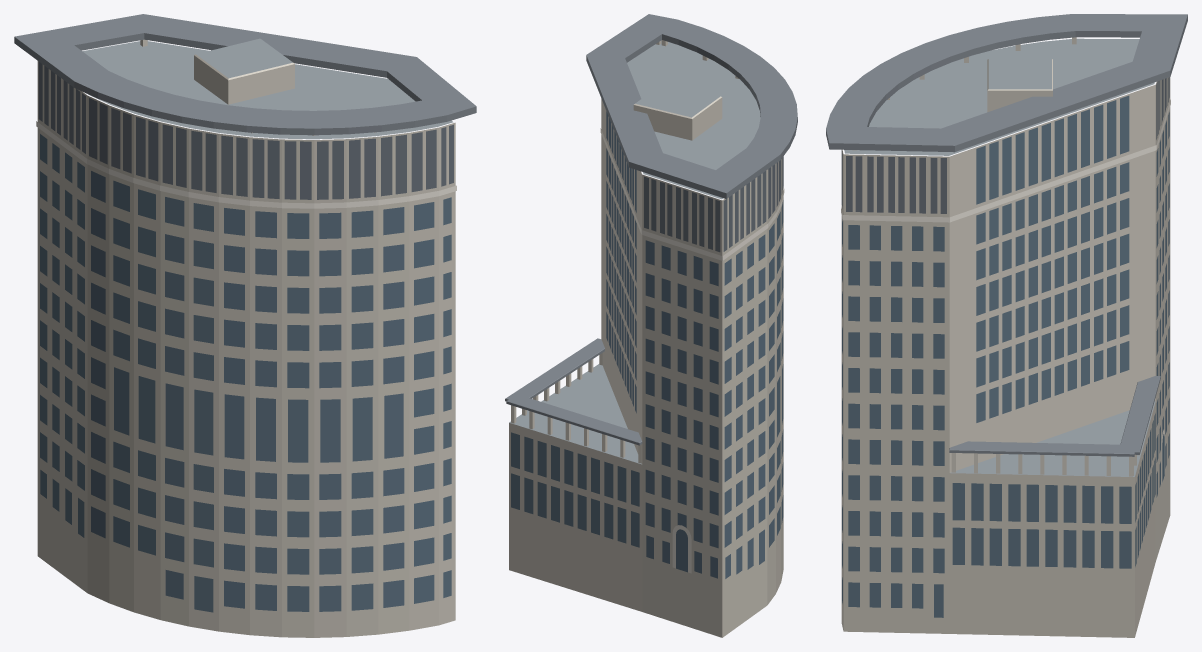
The model's file is cle-stokes-courthouse.glb.
The picture shows the model from 3 angles, left to right: view 1: azimuth 30°, elevation 25°; view 2: azimuth 150°, elevation 25°; view 3: azimuth 270°, elevation 25°; orthographic projection. The views are drawn at different scales.
Parts seen in each view (by area): view 1: Carl B. Stokes United States Courthouse; view 2: Carl B. Stokes United States Courthouse; view 3: Carl B. Stokes United States Courthouse.
Boxes of the visible parts, x1=… form: Carl B. Stokes United States Courthouse: x1=14, y1=14, x2=476, y2=637; Carl B. Stokes United States Courthouse: x1=505, y1=14, x2=797, y2=637; Carl B. Stokes United States Courthouse: x1=826, y1=14, x2=1187, y2=637.
Size of the model in its own units: 75.95 by 135 by 88.1.
